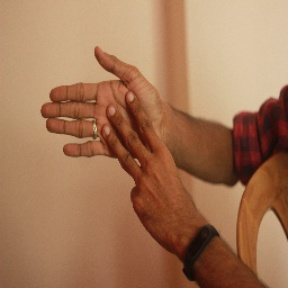M: (40, 42, 171, 193)
